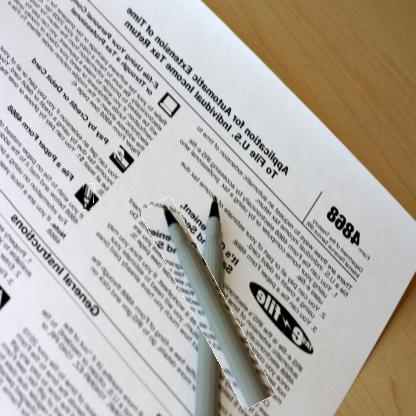Pen: (165, 193, 250, 412), (83, 183, 94, 210)
